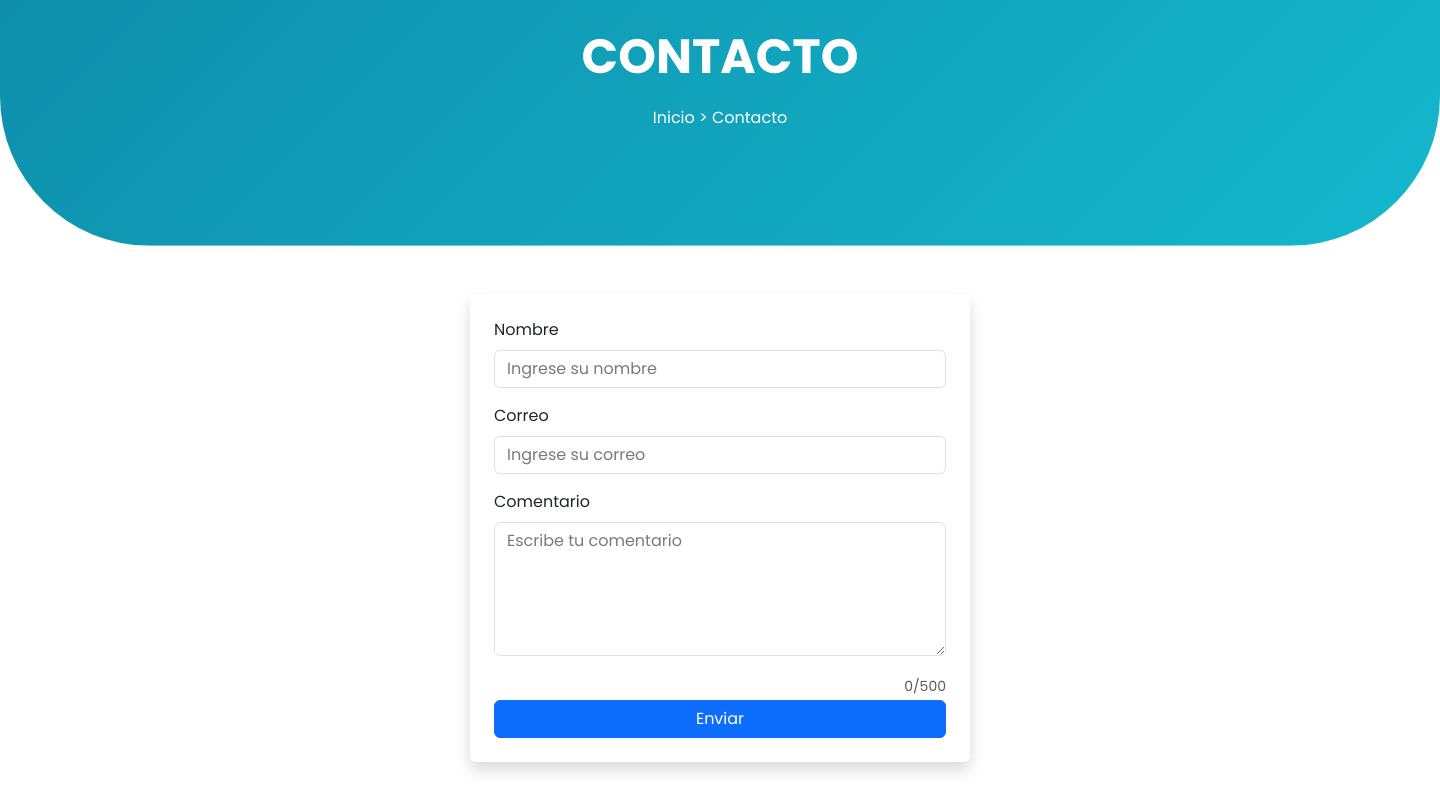
Test: Página Contacto › el contador cuenta los caracteres del comentario
(page scrolled)
Step 1. Type "Hola" into the text box labelled "Comentario" → [720, 589], box top-left (494, 522), bottom-right (946, 656)
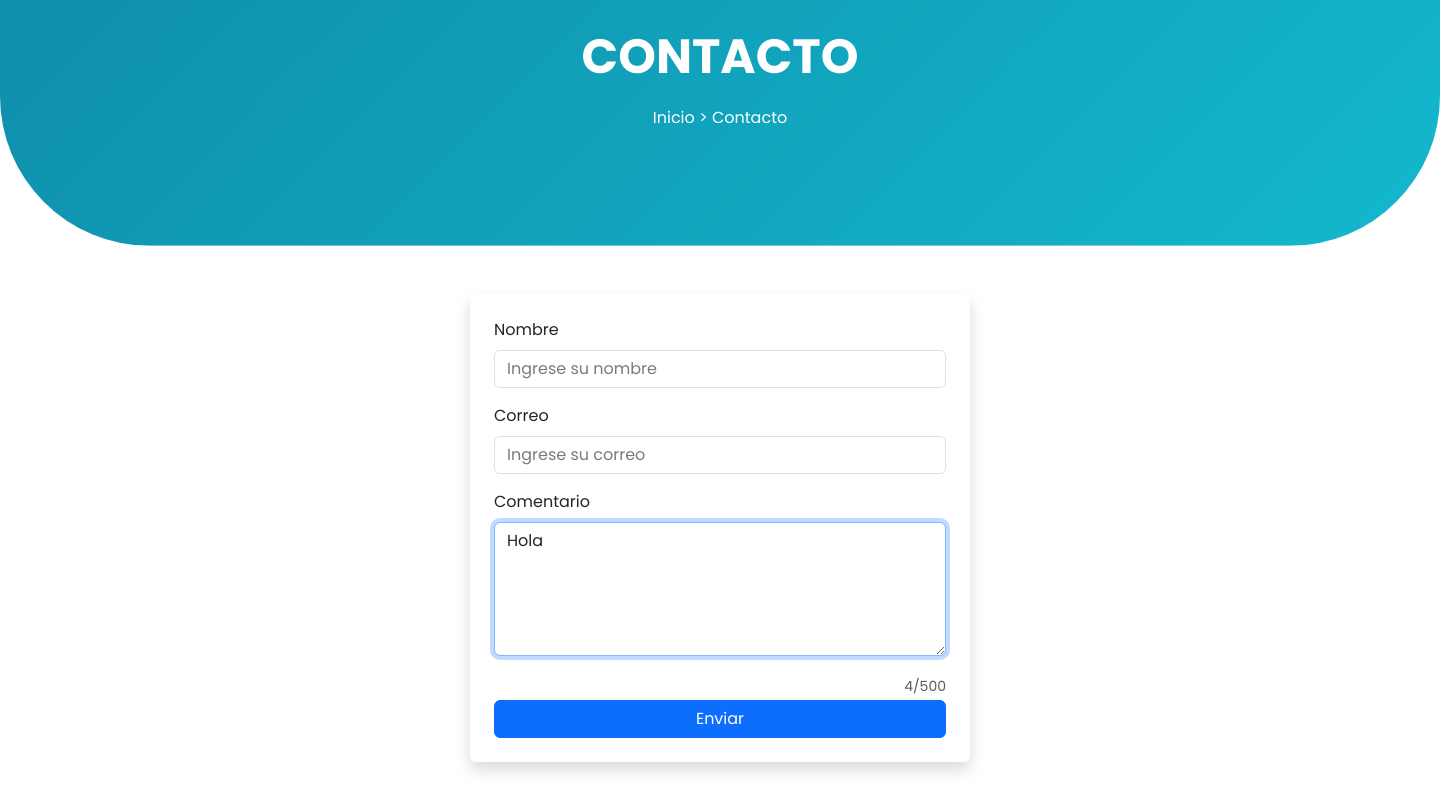
Result: the text "4/500" is shown at top-left (904, 676), bottom-right (946, 696)
